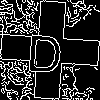D: (25, 25, 65, 74)
